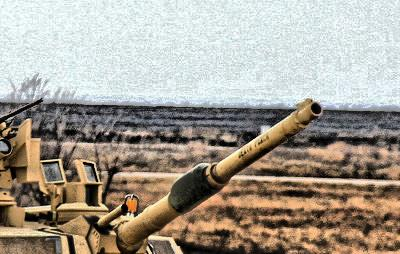tanks: (1, 101, 321, 254)
